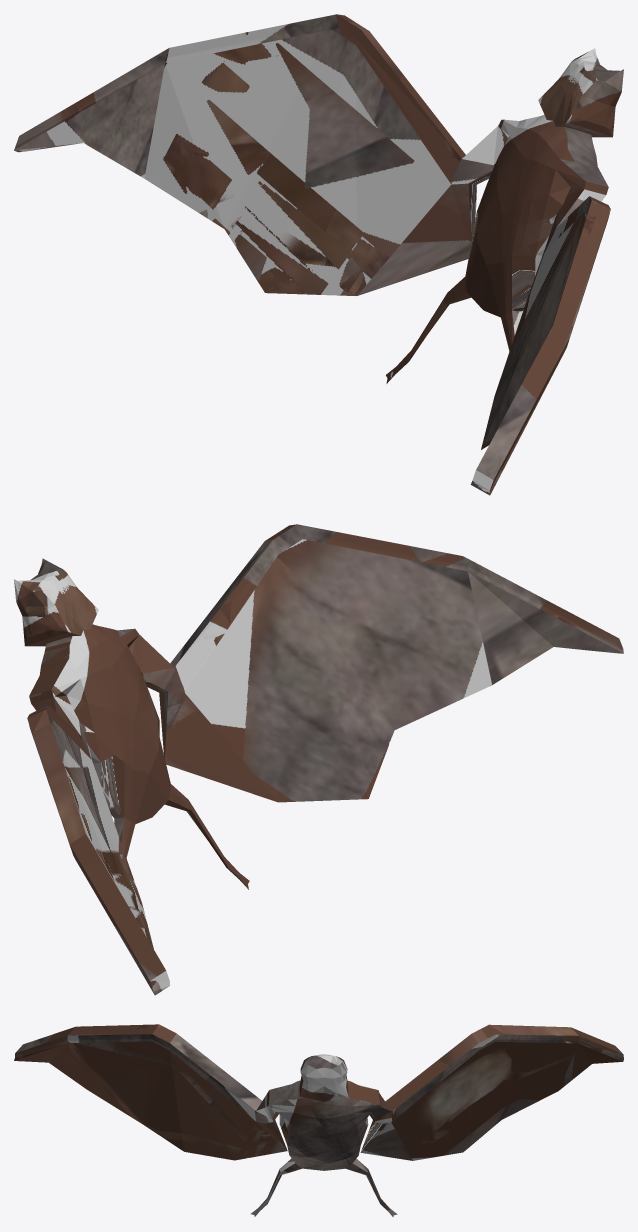
The model's file is Enemigo111.obj.
The picture shows the model from 3 angles, top to bottom: view 1: azimuth 30°, elevation 25°; view 2: azimuth 150°, elevation 25°; view 3: azimuth 270°, elevation 25°; orthographic projection. The views are drawn at different scales.
Parts seen in each view (by area): view 1: Plano; view 2: Plano; view 3: Plano.
Part boxes in pixels (x1=…): Plano: x1=14, y1=14, x2=623, y2=495; Plano: x1=14, y1=524, x2=623, y2=995; Plano: x1=14, y1=1024, x2=623, y2=1216.
Size of the model in its own units: 0.7998 by 0.6662 by 1.76.
1 material, 1 textured.
